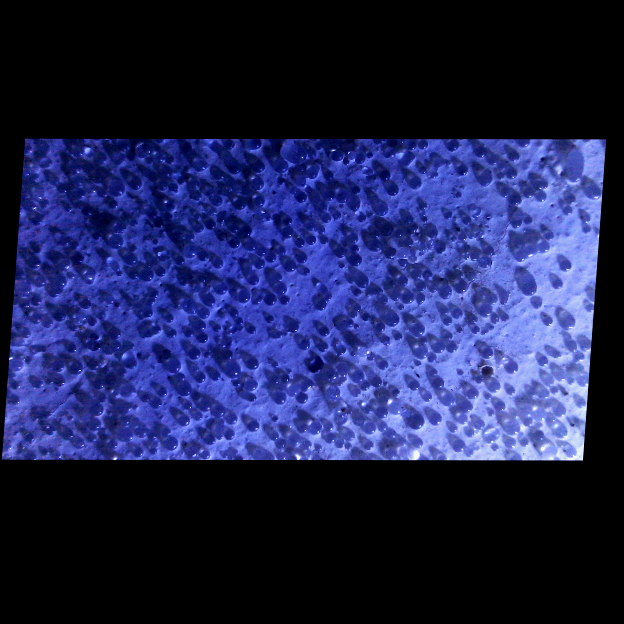GrassBeadSeg: (288, 147, 307, 164), (233, 290, 252, 304), (309, 357, 324, 373), (383, 313, 400, 327), (408, 416, 425, 430), (163, 437, 179, 451), (107, 236, 124, 249), (224, 365, 241, 378), (166, 360, 182, 373), (272, 161, 289, 173), (541, 445, 558, 457), (484, 430, 501, 442), (110, 182, 124, 196), (427, 414, 443, 426), (477, 175, 493, 187), (262, 294, 278, 306), (325, 387, 341, 399), (361, 422, 377, 434), (521, 284, 537, 296), (120, 385, 136, 397), (104, 343, 120, 355), (586, 188, 602, 200), (452, 282, 469, 293), (116, 430, 133, 441), (389, 401, 402, 415), (408, 178, 423, 190), (560, 318, 575, 330), (414, 348, 429, 360), (212, 406, 227, 418), (477, 305, 492, 317), (374, 204, 389, 216), (272, 393, 287, 405), (355, 276, 370, 288), (308, 423, 323, 435), (437, 287, 452, 299), (18, 284, 33, 296), (441, 395, 457, 406), (213, 284, 229, 295), (458, 402, 474, 413), (56, 259, 72, 270), (337, 319, 353, 330), (412, 323, 425, 336), (386, 185, 400, 197), (452, 440, 466, 452), (348, 254, 362, 266), (504, 363, 519, 374), (486, 382, 501, 393), (245, 359, 260, 370), (187, 348, 202, 359), (69, 363, 84, 374), (177, 386, 192, 397), (86, 420, 101, 431), (28, 313, 43, 324), (245, 275, 260, 286), (27, 258, 42, 269), (514, 251, 529, 262), (351, 371, 366, 382), (250, 179, 265, 190), (552, 426, 567, 437), (507, 195, 522, 206), (273, 284, 288, 295), (53, 277, 68, 288), (368, 241, 384, 251), (243, 381, 259, 391), (402, 292, 415, 304), (200, 399, 212, 412), (559, 261, 573, 272), (431, 378, 445, 389), (480, 349, 494, 360), (286, 386, 300, 397), (50, 362, 65, 372), (107, 329, 122, 339), (34, 277, 49, 287), (72, 439, 87, 449), (227, 164, 242, 174), (191, 323, 207, 332), (140, 144, 152, 156), (504, 437, 516, 449), (142, 270, 154, 282), (126, 253, 138, 265), (136, 426, 148, 438), (301, 379, 313, 391), (376, 407, 388, 419), (296, 393, 309, 404), (479, 258, 493, 268), (298, 340, 312, 350), (197, 309, 211, 319), (89, 406, 103, 416), (202, 297, 216, 307), (432, 343, 446, 353), (198, 450, 212, 460), (203, 435, 217, 445), (512, 238, 526, 248), (336, 192, 350, 202), (52, 312, 67, 321), (532, 298, 544, 309), (566, 341, 578, 352), (356, 346, 368, 357), (96, 154, 107, 166), (332, 150, 343, 162), (580, 340, 591, 352), (282, 227, 294, 238), (285, 260, 296, 272), (185, 246, 196, 258), (408, 381, 421, 391), (196, 334, 209, 344), (384, 249, 397, 259), (323, 371, 336, 381), (317, 327, 331, 336), (465, 390, 479, 399), (315, 343, 329, 352), (91, 380, 105, 389), (471, 421, 485, 430), (131, 179, 142, 190), (195, 160, 206, 171), (214, 169, 225, 180), (254, 161, 265, 172), (235, 198, 246, 209), (253, 196, 264, 207), (295, 176, 306, 187), (296, 192, 307, 203), (404, 152, 415, 163), (377, 423, 389, 433), (466, 271, 478, 281), (385, 450, 397, 460), (382, 226, 394, 236), (62, 430, 74, 440), (162, 314, 175, 323), (551, 280, 564, 289), (177, 417, 190, 426), (537, 244, 550, 253), (456, 416, 469, 425), (362, 442, 375, 451), (369, 378, 382, 387), (322, 192, 335, 201), (346, 234, 359, 243), (19, 329, 32, 338), (174, 373, 187, 382), (182, 233, 195, 242), (316, 203, 329, 212), (114, 224, 127, 233), (323, 435, 337, 443), (219, 351, 233, 359), (251, 139, 262, 149), (380, 170, 390, 181), (535, 411, 546, 421), (226, 414, 237, 424), (249, 421, 259, 432), (537, 357, 549, 366), (155, 268, 167, 277), (211, 197, 223, 206), (24, 434, 36, 443), (446, 344, 458, 353), (195, 374, 207, 383), (133, 448, 145, 457), (107, 440, 119, 449), (150, 399, 162, 408), (412, 439, 424, 448), (66, 344, 78, 353), (435, 245, 447, 254), (344, 432, 356, 441), (275, 440, 287, 449), (483, 247, 495, 256), (268, 432, 280, 441), (522, 418, 534, 427), (397, 277, 409, 286), (519, 139, 531, 148), (12, 361, 24, 370), (165, 330, 178, 338), (294, 239, 307, 247), (426, 230, 439, 238), (159, 254, 172, 262), (578, 377, 588, 387), (418, 140, 428, 150), (447, 142, 457, 152), (509, 152, 519, 162), (524, 188, 534, 198), (536, 192, 546, 202), (539, 389, 549, 399), (508, 425, 518, 435), (392, 291, 402, 301), (417, 281, 427, 291), (225, 430, 235, 440), (543, 317, 554, 326), (279, 296, 290, 305), (378, 361, 389, 370), (153, 219, 164, 228), (575, 399, 586, 408), (323, 423, 334, 432), (416, 295, 427, 304), (422, 271, 433, 280), (565, 196, 576, 205), (309, 168, 318, 179), (506, 170, 517, 179), (570, 173, 581, 182), (562, 207, 574, 215), (175, 257, 187, 265), (210, 373, 222, 381), (465, 429, 477, 437), (510, 221, 522, 229), (42, 320, 54, 328), (156, 389, 168, 397), (426, 355, 438, 363), (267, 376, 279, 384), (551, 350, 563, 358), (506, 387, 516, 396), (2, 442, 12, 451), (476, 149, 486, 158), (458, 166, 467, 176), (495, 402, 505, 411), (566, 448, 576, 457), (555, 407, 565, 416), (350, 202, 360, 211), (322, 214, 332, 223), (335, 249, 345, 258), (307, 236, 317, 245), (297, 254, 307, 263), (306, 222, 316, 231), (241, 228, 251, 237), (254, 260, 264, 269), (247, 242, 257, 251), (213, 260, 223, 269), (106, 376, 116, 385), (289, 323, 299, 332), (376, 323, 385, 333), (108, 201, 119, 209), (448, 425, 459, 433), (544, 233, 555, 241), (246, 326, 257, 334), (380, 337, 391, 345), (422, 394, 433, 402), (246, 394, 257, 402), (410, 271, 421, 279), (69, 242, 80, 250), (397, 438, 408, 446), (151, 326, 162, 334), (407, 225, 418, 233), (184, 330, 196, 337), (147, 211, 159, 218), (438, 308, 450, 315), (24, 453, 38, 459), (95, 396, 107, 403), (487, 409, 496, 418), (24, 145, 33, 154), (347, 151, 356, 160), (316, 302, 325, 311), (267, 253, 276, 262), (231, 239, 240, 248), (207, 221, 216, 230), (199, 252, 208, 261), (390, 389, 400, 397), (351, 389, 361, 397), (471, 327, 481, 335), (232, 379, 242, 387), (84, 208, 94, 216), (297, 425, 308, 432), (462, 218, 473, 225), (360, 384, 371, 391), (116, 369, 127, 376), (427, 370, 438, 377), (11, 383, 22, 390), (193, 225, 204, 232), (370, 231, 381, 238), (418, 202, 427, 210), (226, 141, 235, 149), (356, 156, 365, 164), (407, 142, 416, 150), (418, 166, 427, 174), (469, 316, 478, 324), (444, 332, 453, 340), (443, 317, 452, 325), (380, 297, 389, 305), (582, 227, 592, 234), (265, 316, 275, 323), (301, 269, 311, 276), (523, 218, 533, 225), (475, 377, 485, 384), (235, 318, 245, 325), (269, 361, 279, 368), (470, 253, 480, 260), (283, 218, 293, 225), (458, 234, 468, 241), (128, 220, 138, 227), (581, 216, 591, 223), (41, 449, 51, 456), (586, 305, 594, 313), (194, 192, 202, 200), (309, 150, 317, 158), (325, 172, 333, 180), (387, 149, 395, 157), (489, 157, 497, 165), (536, 434, 544, 442), (454, 310, 462, 318), (351, 245, 359, 253), (358, 215, 366, 223), (333, 212, 341, 220), (353, 289, 361, 297), (259, 248, 267, 256), (231, 225, 239, 233), (145, 309, 153, 317), (34, 297, 42, 305), (88, 434, 96, 442), (124, 404, 132, 412), (149, 432, 157, 440), (142, 394, 150, 402), (90, 362, 98, 370), (185, 402, 193, 410), (192, 392, 200, 400), (362, 313, 370, 321), (364, 406, 372, 414), (501, 315, 510, 322), (281, 375, 290, 382), (465, 450, 474, 457), (251, 298, 260, 305), (405, 240, 414, 247), (395, 230, 404, 237), (393, 334, 403, 340), (491, 445, 501, 451), (348, 312, 358, 318), (23, 171, 31, 178), (76, 150, 84, 157), (88, 186, 96, 193), (64, 205, 72, 212), (73, 167, 81, 174), (29, 204, 37, 211), (34, 218, 42, 225), (170, 184, 178, 191), (551, 387, 558, 395), (557, 440, 565, 447), (521, 439, 529, 446), (353, 187, 361, 194), (318, 227, 326, 234), (278, 247, 286, 254), (274, 274, 282, 281), (219, 233, 227, 240), (131, 271, 138, 279), (94, 232, 101, 240), (76, 256, 84, 263), (86, 273, 93, 281), (57, 378, 65, 385), (48, 426, 55, 434), (121, 418, 129, 425), (163, 429, 171, 436), (94, 343, 102, 350), (129, 361, 136, 369), (194, 413, 202, 420), (320, 237, 328, 244), (213, 325, 221, 332), (231, 310, 239, 317), (203, 352, 212, 358), (443, 214, 453, 219), (500, 298, 507, 305), (60, 186, 67, 193), (35, 194, 42, 201), (31, 176, 38, 183), (76, 179, 83, 186), (46, 160, 53, 167), (53, 178, 60, 185), (147, 158, 154, 165), (78, 191, 85, 198), (160, 183, 167, 190), (160, 196, 167, 203), (168, 204, 175, 211), (497, 173, 504, 180), (576, 354, 583, 361), (490, 297, 497, 304), (430, 285, 437, 292), (376, 288, 383, 295), (90, 319, 97, 326), (83, 301, 90, 308), (51, 290, 58, 297), (54, 451, 61, 458), (35, 381, 42, 388), (271, 416, 279, 422), (367, 354, 375, 360), (399, 261, 407, 267), (461, 254, 469, 260), (100, 191, 108, 197), (41, 201, 49, 207), (12, 398, 20, 404), (120, 146, 127, 152), (501, 191, 508, 197), (480, 291, 486, 298), (348, 278, 355, 284), (325, 294, 332, 300), (151, 448, 157, 455), (280, 454, 287, 460), (305, 443, 312, 449), (337, 442, 344, 448), (484, 394, 492, 399), (454, 193, 462, 198), (315, 446, 323, 451), (178, 179, 184, 185), (168, 158, 174, 164), (299, 166, 305, 172), (432, 173, 438, 179), (398, 304, 404, 310), (411, 256, 417, 262), (153, 239, 159, 245), (132, 246, 138, 252), (277, 332, 283, 338), (355, 306, 361, 312), (421, 338, 427, 344), (389, 282, 396, 287), (400, 252, 407, 257), (306, 452, 313, 457), (345, 444, 352, 449), (389, 433, 396, 438), (157, 157, 163, 162), (161, 152, 167, 157), (195, 214, 201, 219), (227, 186, 233, 191), (211, 209, 217, 214), (279, 179, 285, 184), (317, 144, 323, 149), (344, 160, 350, 165), (266, 216, 272, 221), (367, 153, 373, 158), (568, 380, 574, 385), (547, 381, 553, 386), (530, 392, 536, 397), (536, 424, 542, 429), (549, 417, 555, 422), (488, 326, 494, 331), (422, 217, 428, 222), (367, 213, 373, 218), (75, 320, 81, 325), (68, 274, 74, 279), (48, 379, 54, 384), (107, 410, 113, 415), (94, 335, 100, 340), (293, 440, 299, 445), (341, 377, 347, 382), (468, 233, 474, 238), (473, 213, 479, 218), (193, 183, 198, 188), (209, 190, 214, 195), (537, 185, 542, 190), (547, 404, 552, 409), (519, 433, 524, 438), (559, 376, 564, 381), (458, 370, 463, 375), (481, 330, 486, 335), (458, 328, 463, 333), (420, 246, 425, 251), (373, 219, 378, 224), (220, 217, 225, 222), (201, 277, 206, 282), (182, 281, 187, 286), (193, 293, 198, 298), (182, 304, 187, 309), (154, 292, 159, 297), (149, 300, 154, 305), (100, 312, 105, 317), (81, 315, 86, 320), (73, 326, 78, 331), (20, 340, 25, 345), (19, 354, 24, 359), (11, 374, 16, 379), (34, 416, 39, 421), (47, 411, 52, 416), (69, 415, 74, 420), (130, 344, 135, 349), (104, 368, 109, 373), (233, 450, 238, 455), (416, 361, 421, 366), (479, 232, 484, 237), (175, 303, 181, 307), (109, 299, 115, 303), (117, 272, 123, 276), (146, 263, 152, 267), (24, 304, 30, 308), (463, 249, 469, 253), (165, 173, 170, 177), (501, 166, 506, 170), (543, 183, 547, 188), (419, 252, 424, 256), (451, 237, 456, 241), (191, 282, 196, 286), (71, 314, 76, 318), (138, 310, 143, 314), (113, 393, 118, 397), (133, 405, 138, 409), (223, 454, 228, 458), (218, 435, 223, 439), (190, 453, 195, 457), (354, 325, 359, 329), (339, 204, 344, 208), (79, 205, 83, 209), (427, 173, 431, 177), (340, 264, 344, 268), (65, 240, 69, 244), (343, 420, 347, 424), (340, 414, 344, 418), (344, 412, 348, 416), (288, 370, 292, 374), (339, 350, 343, 354), (338, 382, 342, 386), (335, 367, 339, 371), (383, 382, 387, 386), (459, 274, 463, 278), (216, 340, 220, 344), (228, 325, 232, 329), (493, 320, 498, 323), (273, 192, 277, 195), (304, 174, 308, 177), (292, 190, 296, 193), (526, 413, 529, 417), (494, 316, 498, 319), (430, 242, 433, 246), (324, 300, 328, 303), (349, 411, 353, 414), (336, 409, 340, 412), (352, 352, 355, 356), (343, 373, 346, 377), (507, 292, 511, 295), (195, 368, 199, 371), (228, 331, 231, 335), (222, 343, 225, 347), (233, 330, 237, 333), (239, 326, 242, 330), (262, 218, 265, 221), (373, 177, 376, 180), (515, 415, 518, 418), (409, 253, 412, 256), (427, 249, 430, 252), (431, 240, 434, 243), (422, 213, 425, 216), (137, 298, 140, 301), (130, 304, 133, 307), (117, 305, 120, 308), (102, 300, 105, 303), (84, 321, 87, 324), (284, 332, 287, 335), (466, 409, 470, 411), (408, 221, 411, 223), (78, 310, 81, 312), (483, 145, 485, 147), (117, 268, 119, 270)
